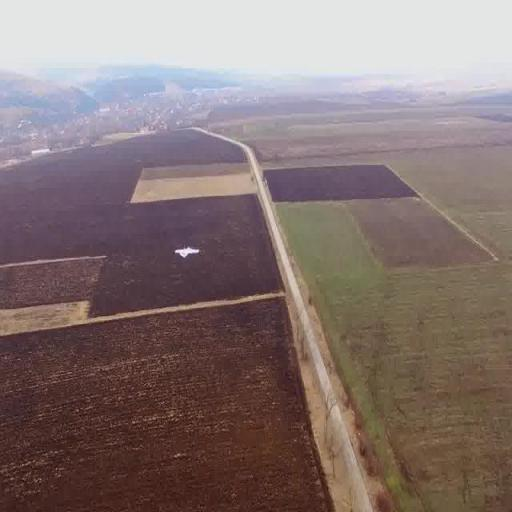uav: (170, 234, 206, 272)
